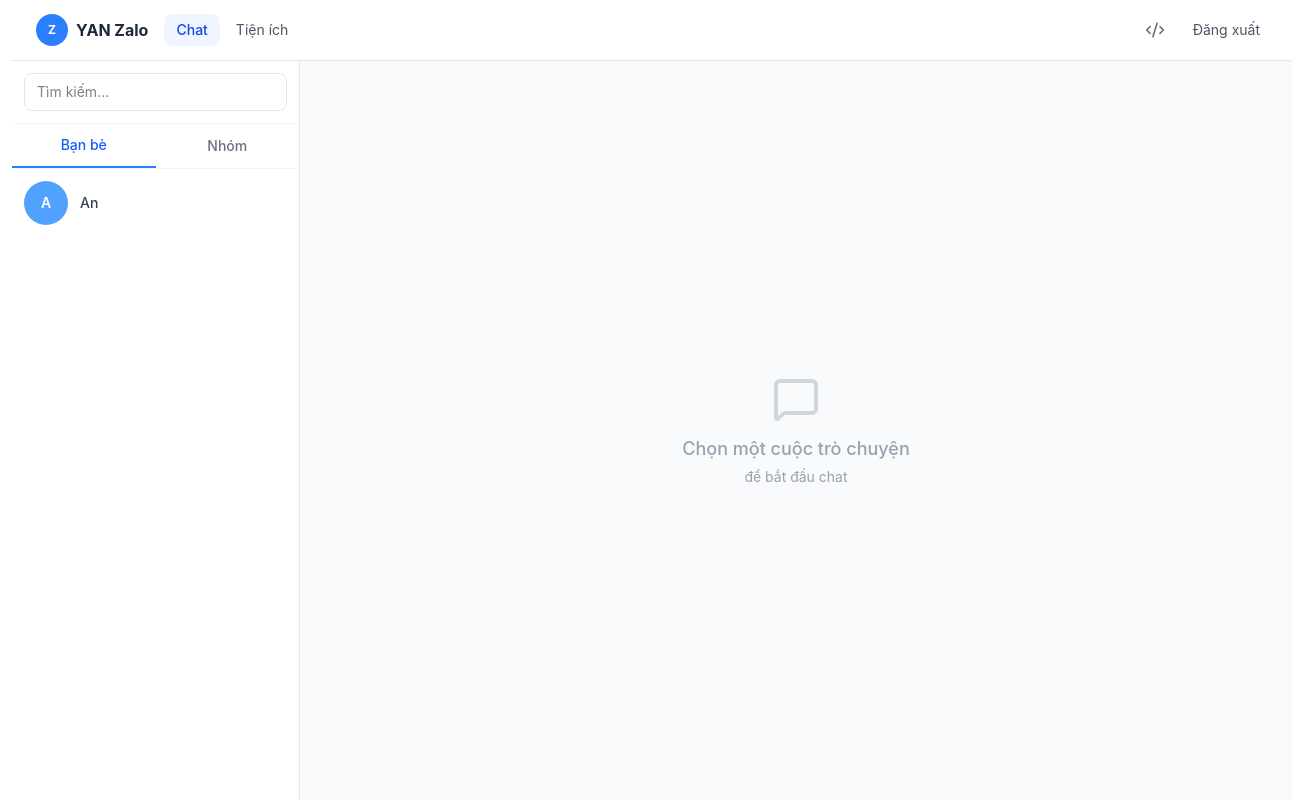
Scenario: chat message media › jumps with Enter and discards a late previous-result jump after returning to latest
Click the button "A An". click: {"x": 46, "y": 203}
box: [12,169,299,237]
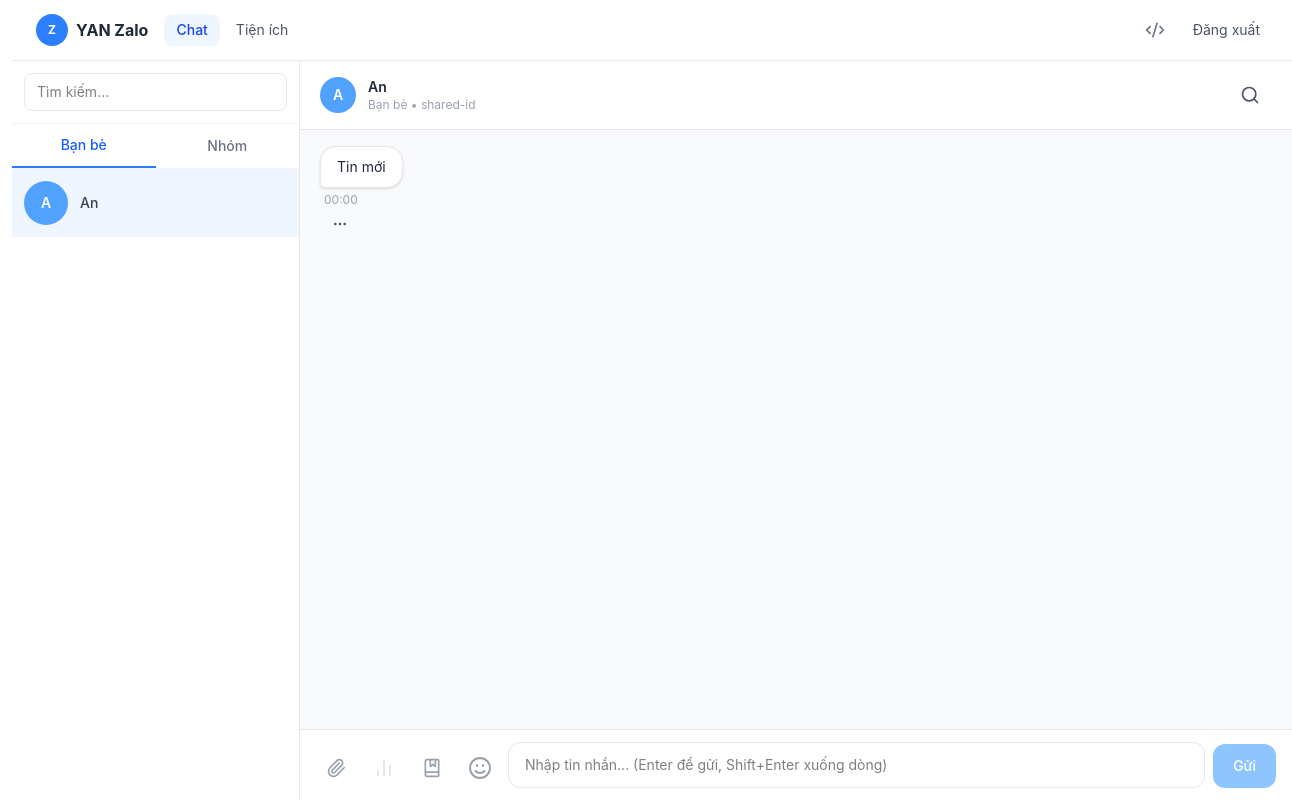
Result: the text "Tin mới" is shown at [320,146,403,188]
Click the button named "Tìm tin nhắn". click: {"x": 1250, "y": 95}
box: [1228,73,1272,117]
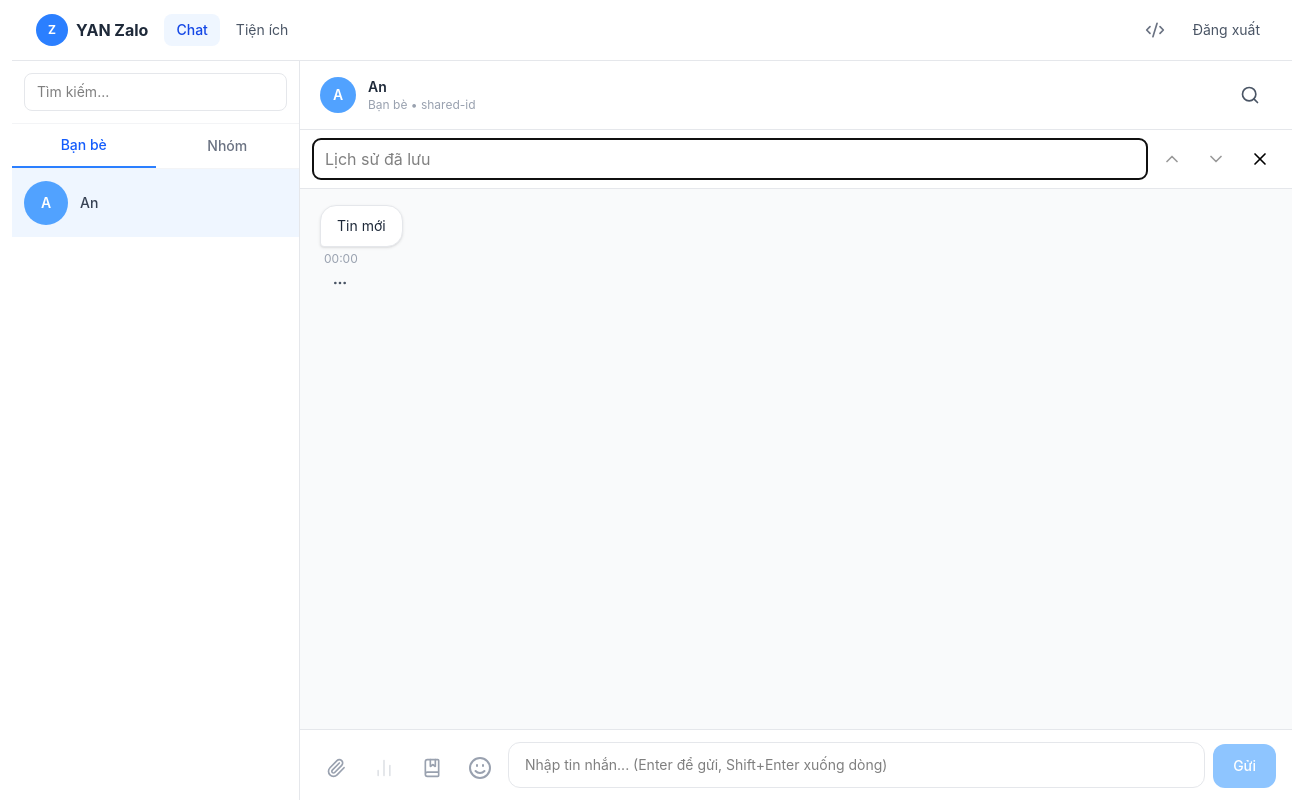
Type "điện" into the search field labelled "Lịch sử đã lưu". click: {"x": 730, "y": 159}
box: [312,138,1148,180]
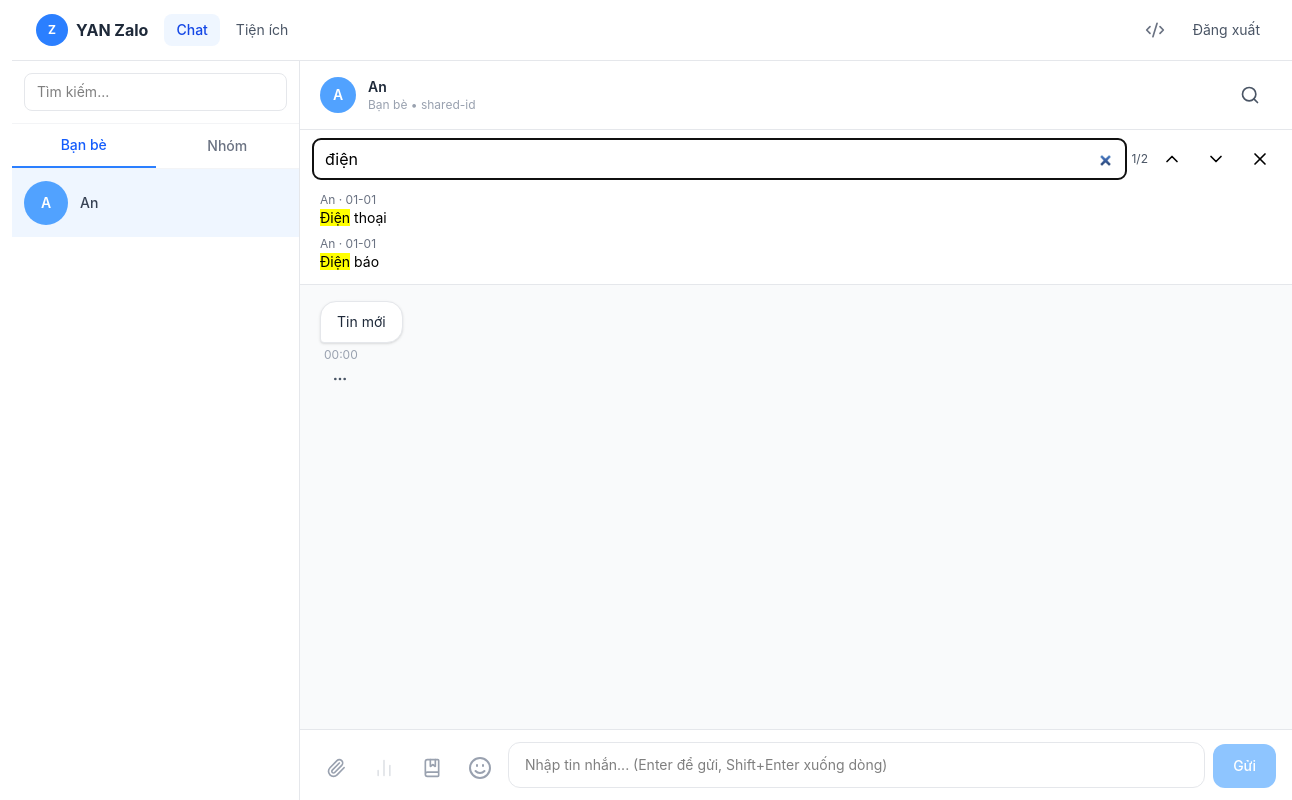
Result: the text "1/2" is shown at [1132,151,1148,167]
Press Enter in the search field named "Lịch sử đã lưu", box [312,138,1128,180]
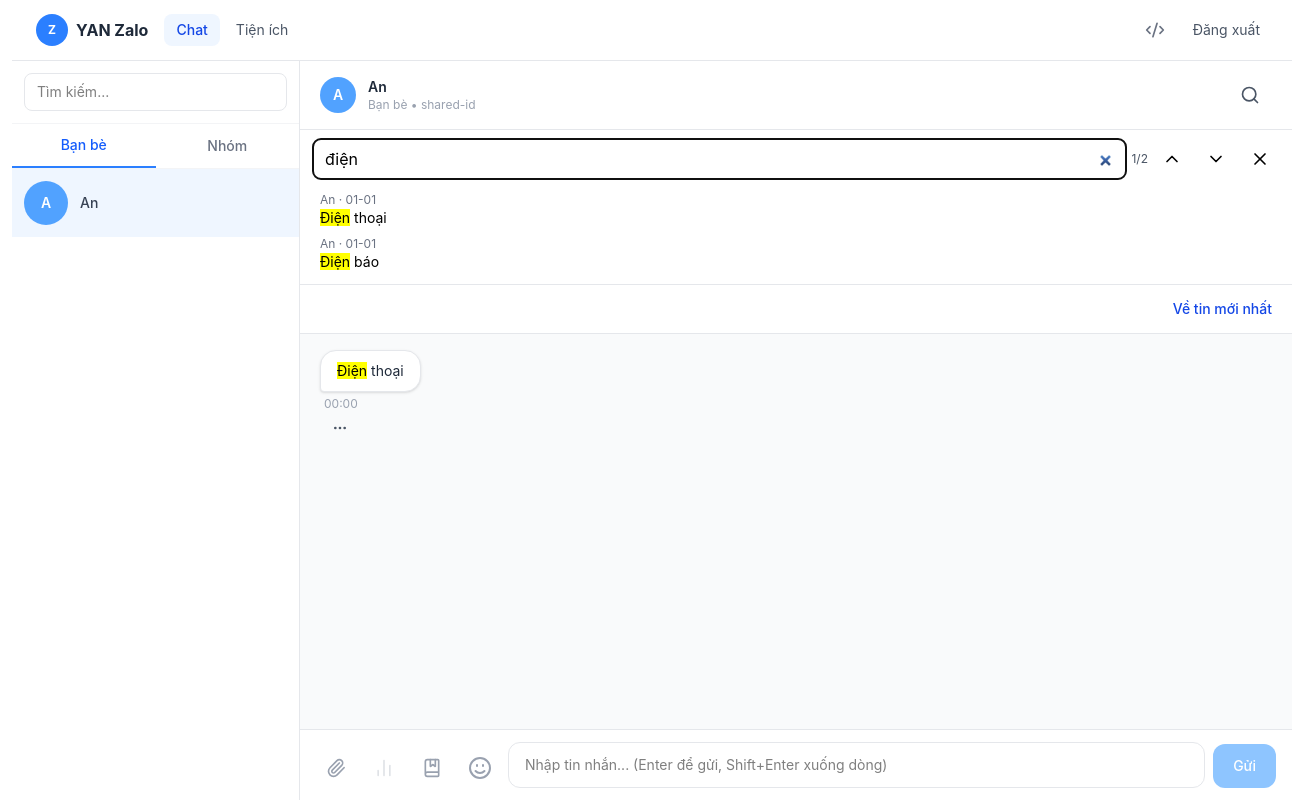
Result: the text "Điện" is shown 2 times at [320,209,350,226]; [337,362,367,379]
Press Enter in the search field named "Lịch sử đã lưu", box [312,138,1128,180]
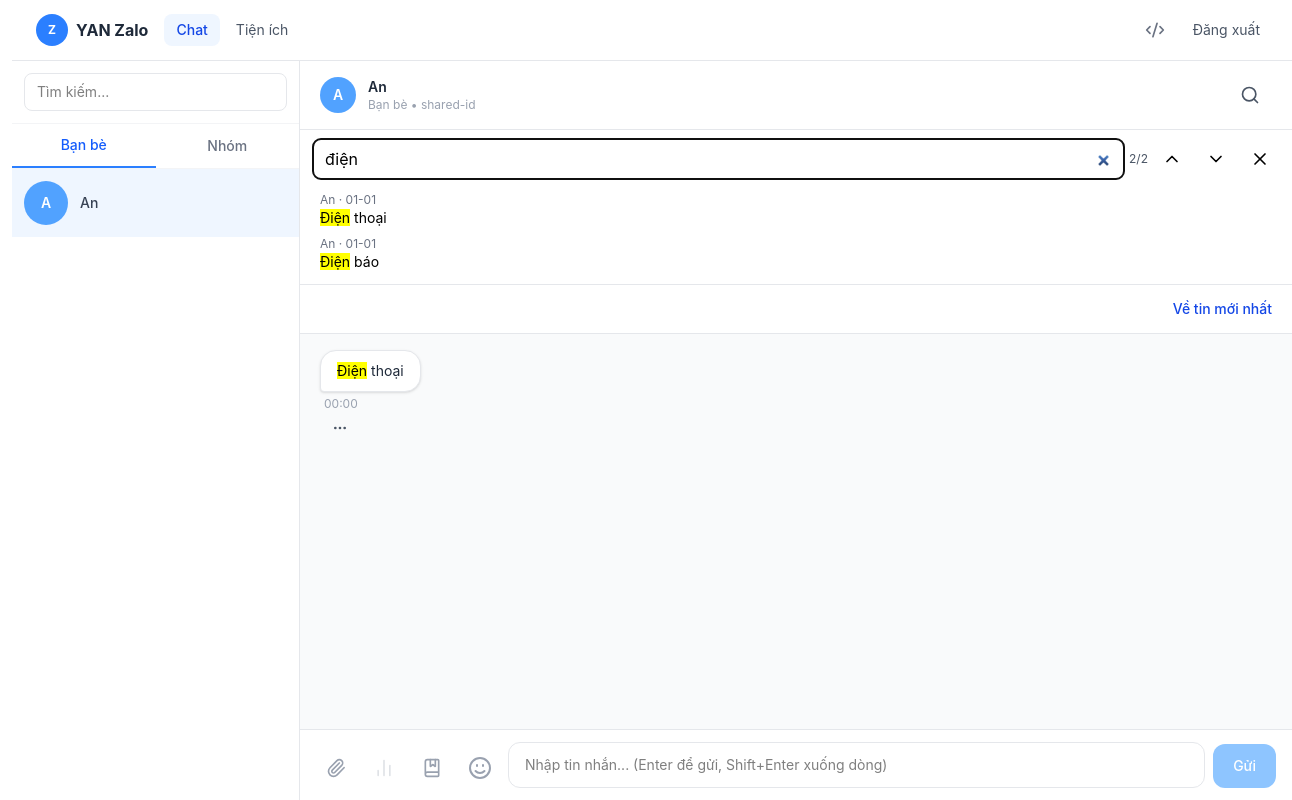
Click the button "Về tin mới nhất". click: {"x": 1222, "y": 309}
box: [1165,289,1280,329]
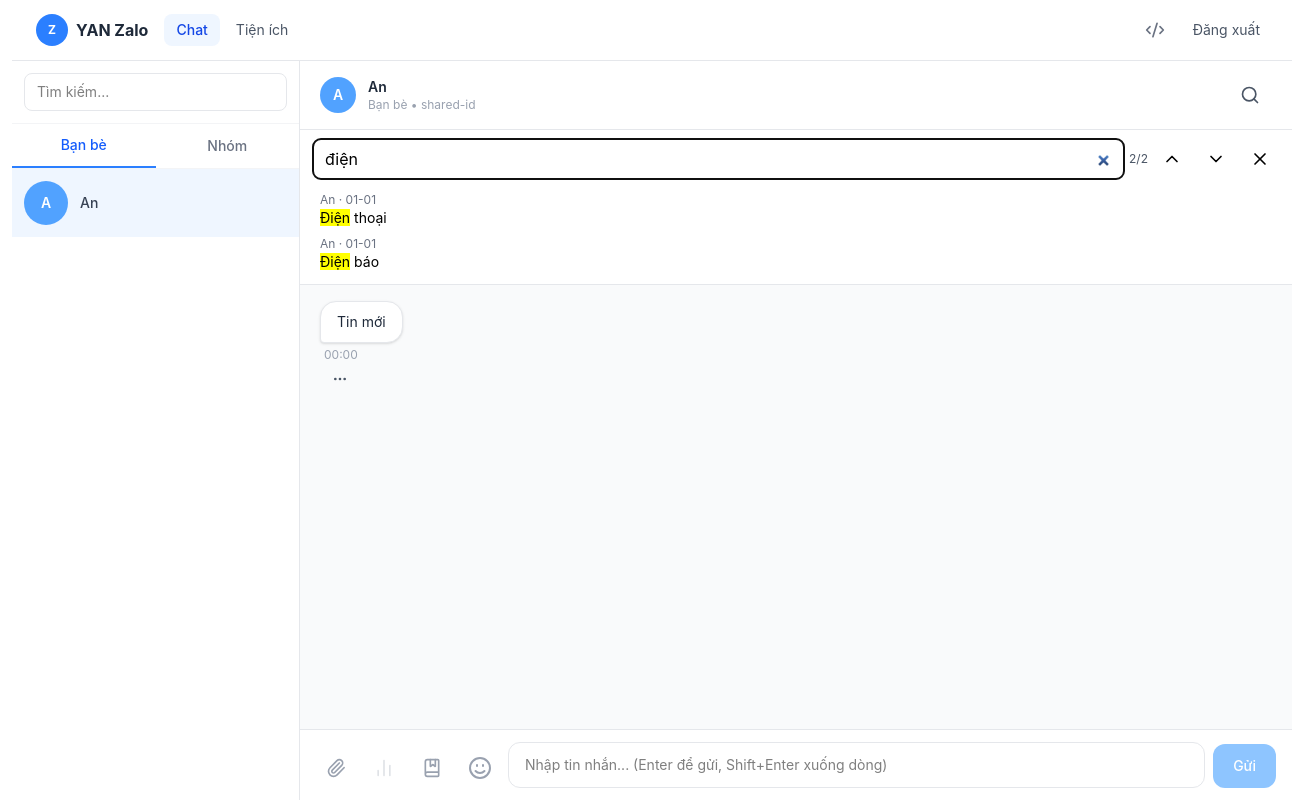
Result: the text "Tin mới" is shown at [320,301,403,343]
